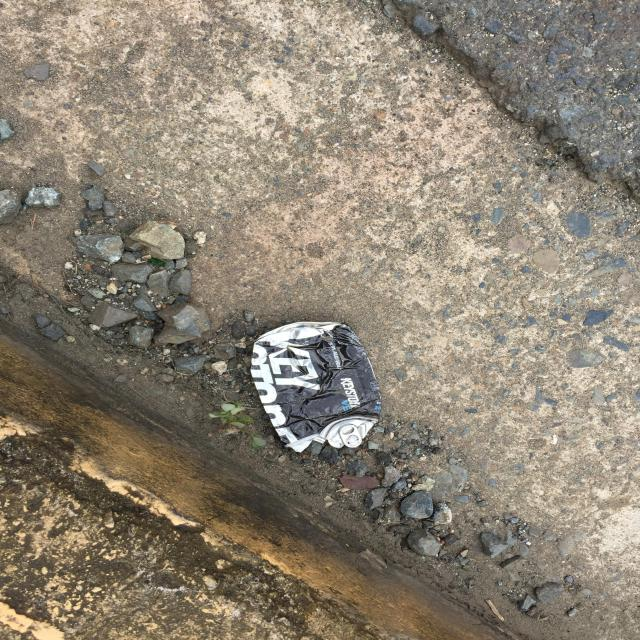litter: (430, 192, 609, 292)
